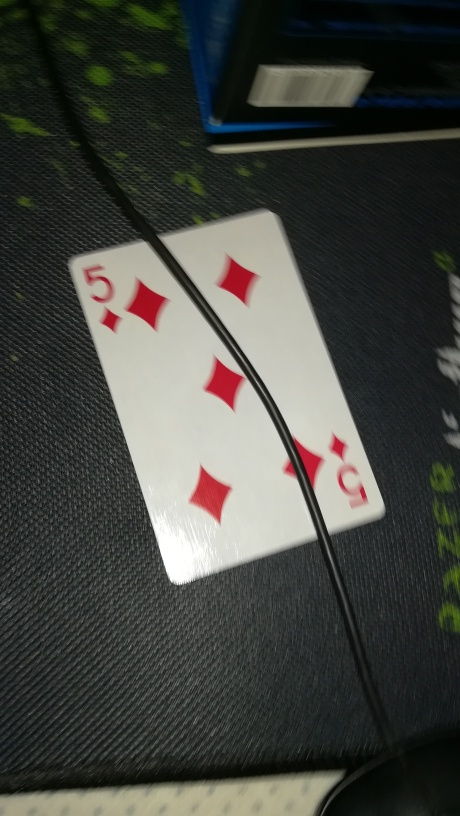fk 5: (62, 204, 388, 591)
